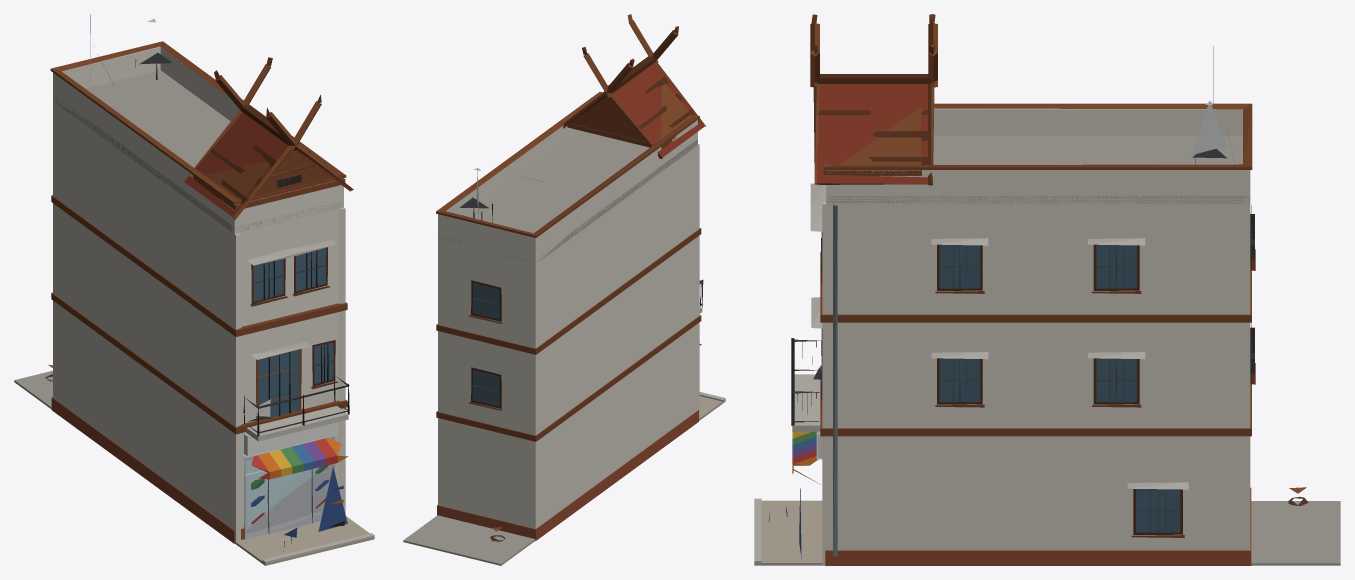
File: bay2_right.glb
3 renders of one model, left to right at view 1: azimuth 30°, elevation 25°; view 2: azimuth 150°, elevation 25°; view 3: azimuth 270°, elevation 25°, orthographic. The views are drawn at different scales.
Visible parts, largest first — view 1: body, windows; view 2: body, windows; view 3: body, windows.
Boxes of the visible parts, x1,y1,x2,y2 form: body: (14,14,374,565); windows: (253,174,333,420); body: (403,14,725,565); windows: (472,282,499,406); body: (754,14,1340,565); windows: (939,214,1251,532).
Size of the model in its own units: 4.64 by 15.2 by 15.9.
